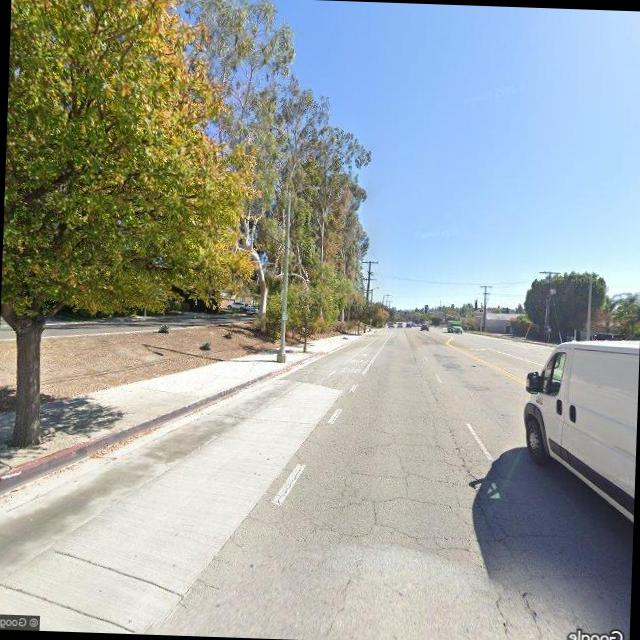crack: (315, 397, 528, 556)
